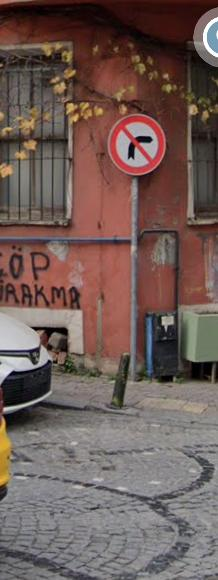rightturnsareforbidden: (106, 110, 169, 181)
